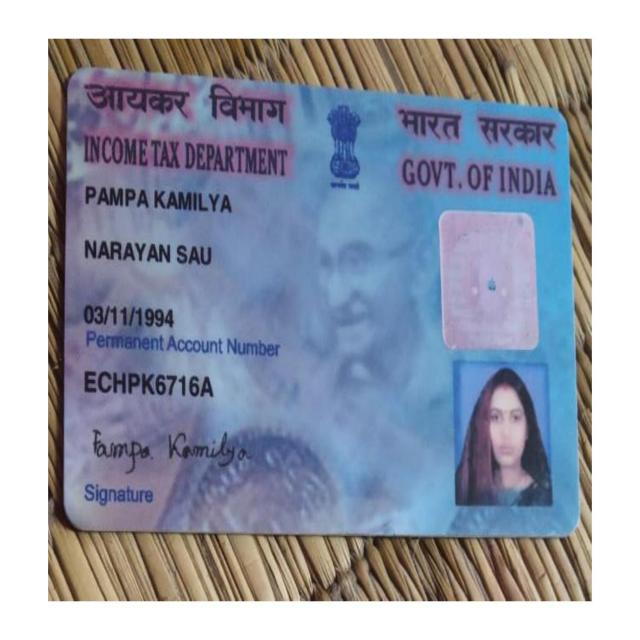pan_card: (64, 72, 573, 536)
